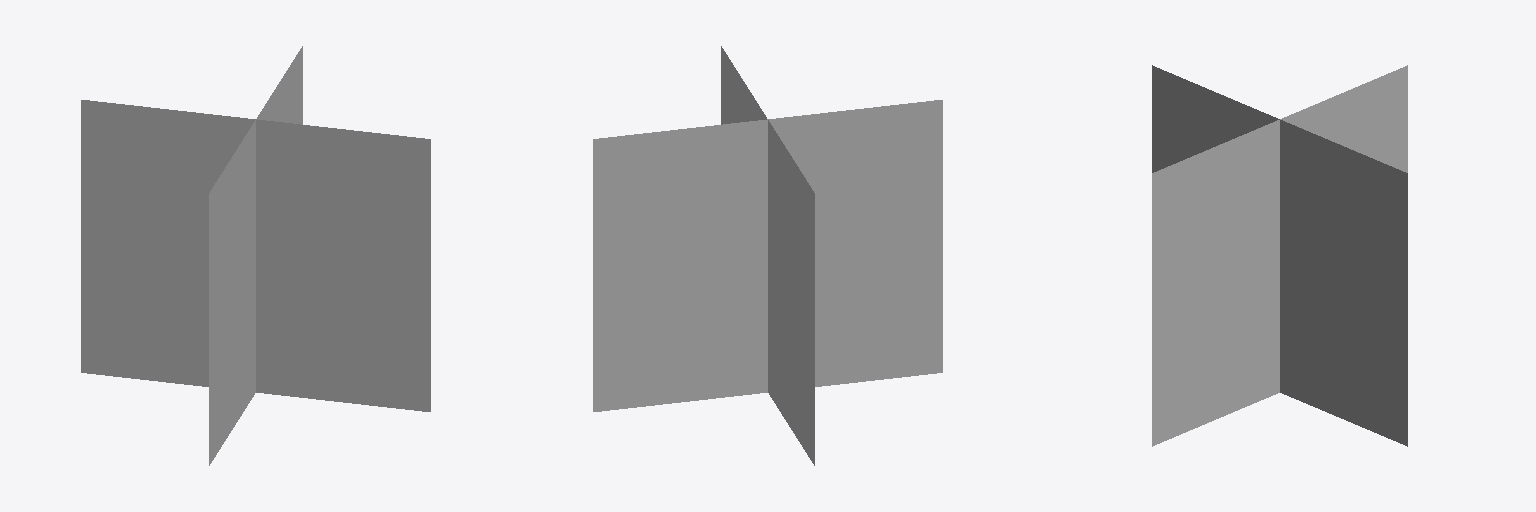
The model's file is sullen_hydrangea_stage0.obj.
The picture shows the model from 3 angles: view 1: azimuth 30°, elevation 25°; view 2: azimuth 150°, elevation 25°; view 3: azimuth 270°, elevation 25°; orthographic projection.
Visible parts, largest first — view 1: cube_1, cube_0; view 2: cube_0, cube_1; view 3: cube_0, cube_1.
Boxes of the visible parts, box(x1,y1,x2,y2) form: cube_1: box(81, 100, 430, 411); cube_0: box(209, 46, 302, 465); cube_0: box(593, 100, 942, 411); cube_1: box(721, 46, 814, 465); cube_0: box(1152, 65, 1407, 446); cube_1: box(1152, 65, 1407, 446).
Bounding box in the file's own units: 0.2652 × 0.3125 × 0.2652.